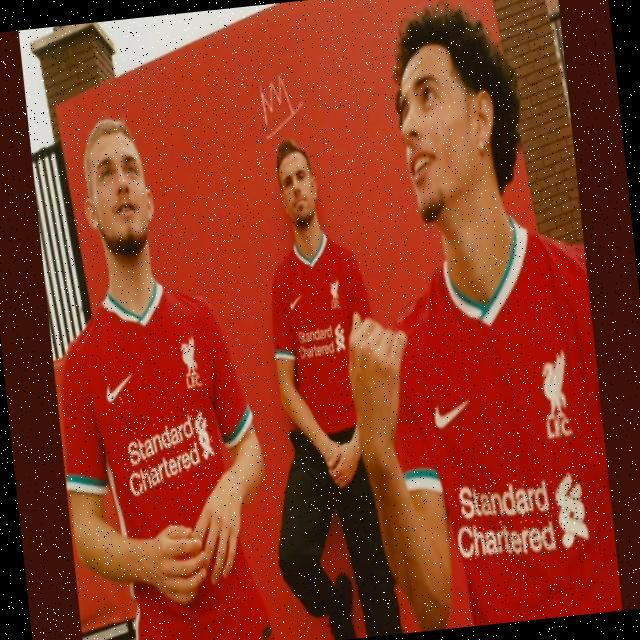Nike: (431, 395, 472, 429), (104, 373, 133, 404)
Standard Chartered: (453, 473, 588, 561), (120, 406, 219, 494), (296, 316, 349, 364)
